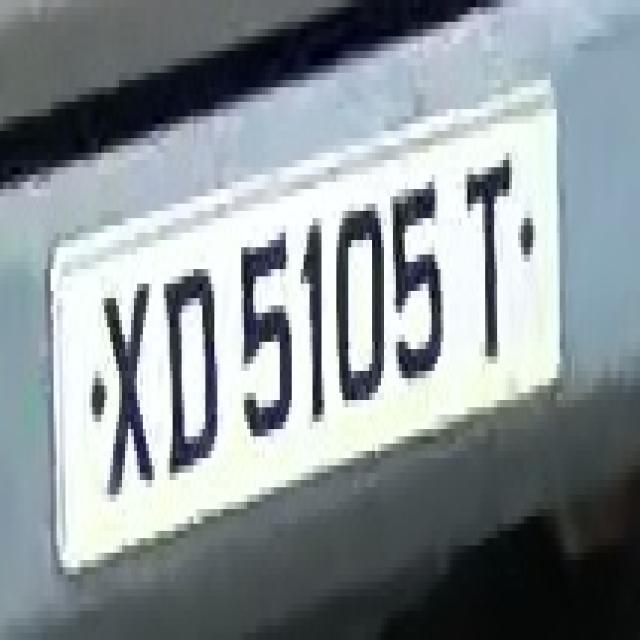0: (339, 167, 390, 422)
1: (295, 175, 333, 458)
5: (387, 153, 446, 400), (235, 218, 289, 444)
D: (155, 240, 226, 487)
T: (452, 138, 521, 378)
X: (92, 262, 152, 531)
